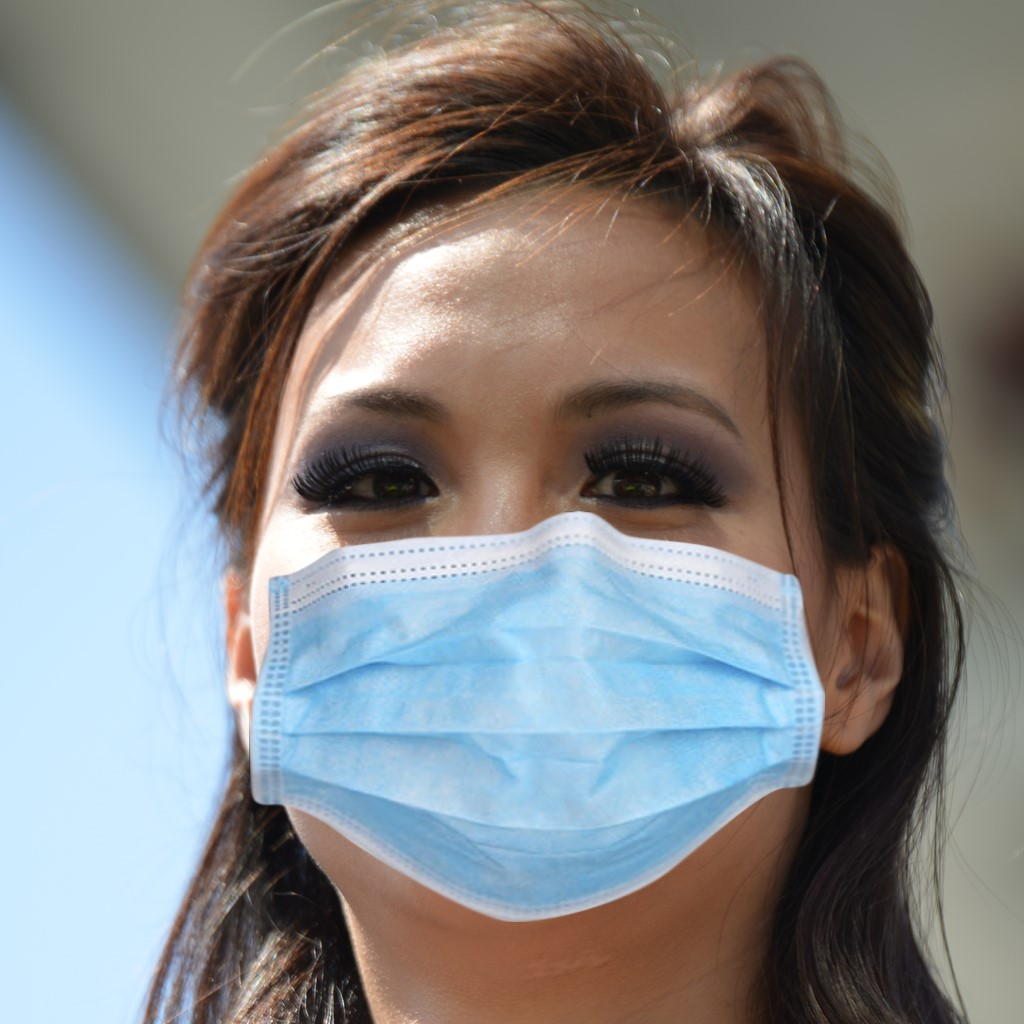con_mascara: (259, 208, 856, 913)
